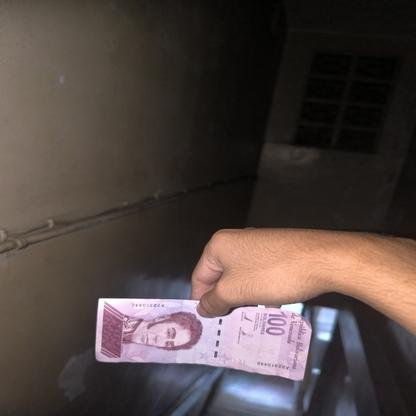one_hundred-front-vef: (94, 297, 312, 381)
